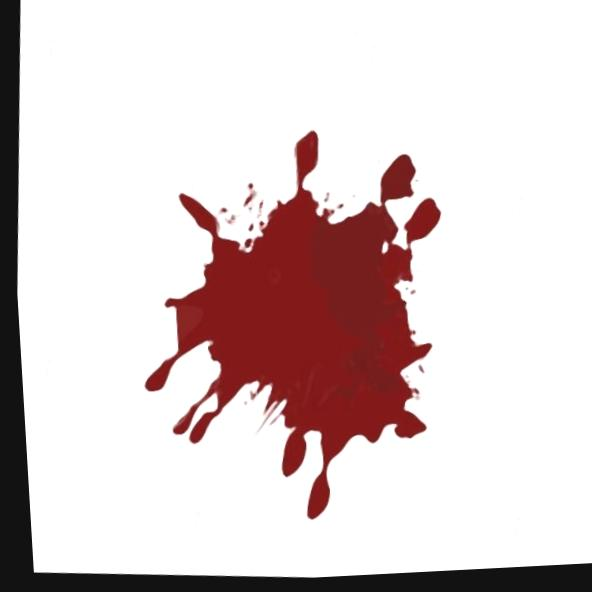Fire: (139, 133, 438, 522)
